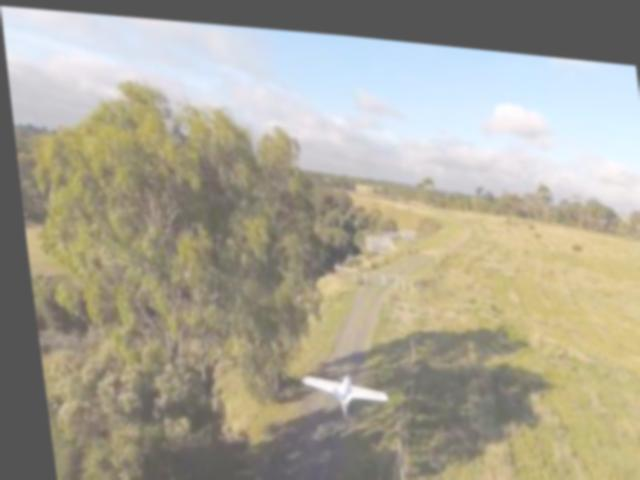uav: (294, 358, 384, 415)
